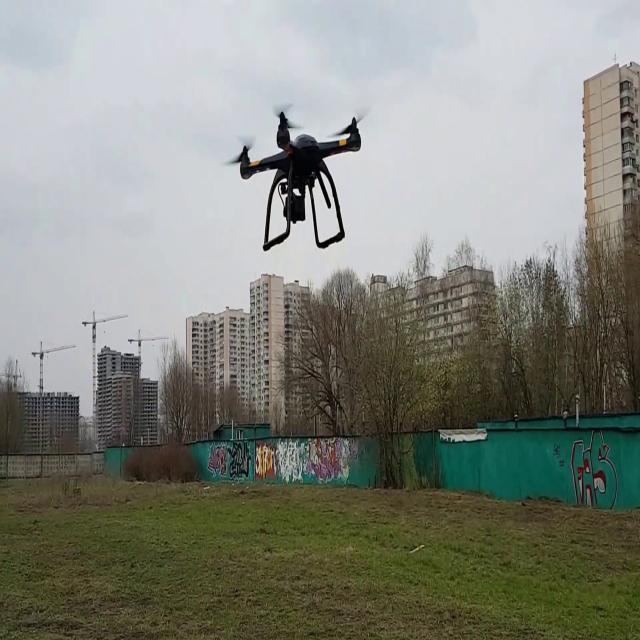Drons: (220, 103, 372, 254)
